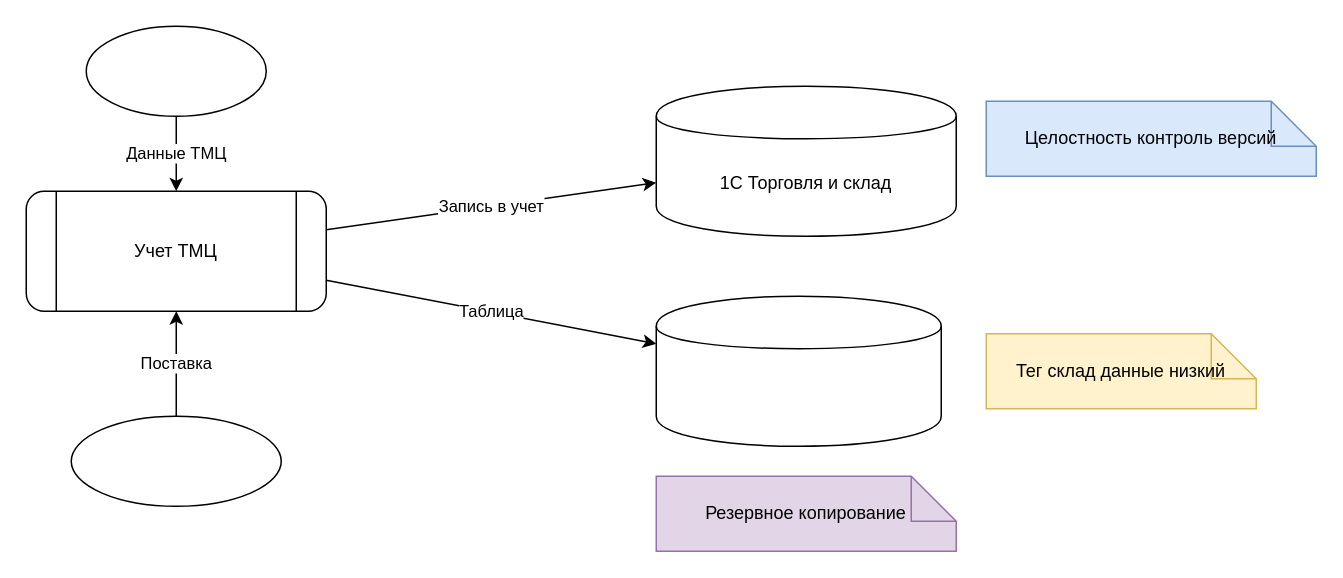
Some shapes in this 1343 by 578 pixel diagram are drawn without their labels. Each missing label, with the centre of its shape:
"Excel склад" goes at (798,370).
"Поставщик" goes at (175,460).
"Склад" goes at (175,70).
